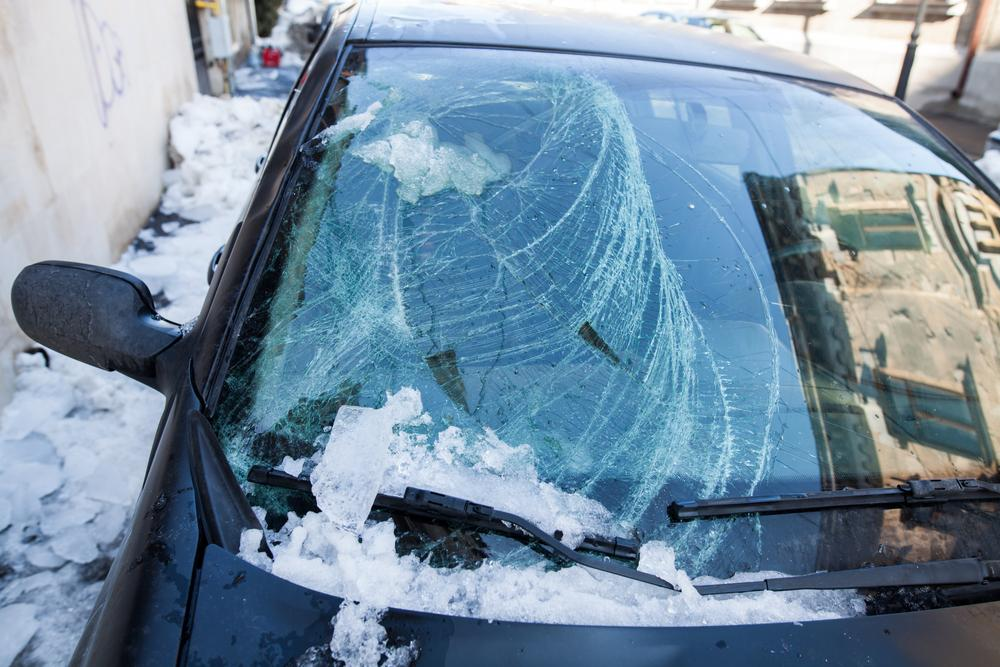glass shatter: (214, 45, 1000, 579)
